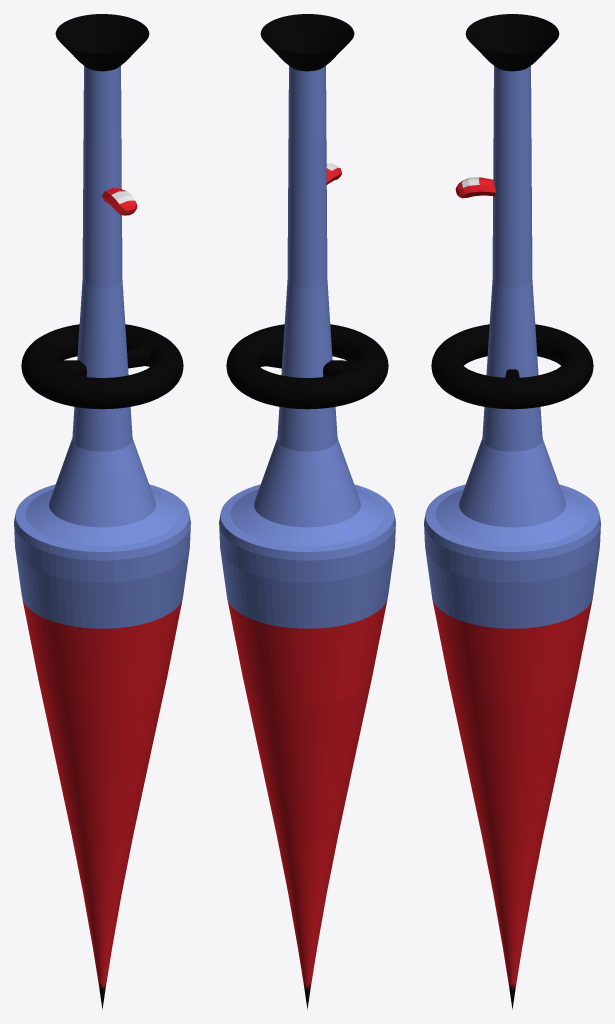
File: Lance.fbx
3 views of the same model, side by side, from view 1: azimuth 30°, elevation 25°; view 2: azimuth 150°, elevation 25°; view 3: azimuth 270°, elevation 25° (orthographic).
Visible parts, largest first — view 1: Cylinder; view 2: Cylinder; view 3: Cylinder.
Boxes of the visible parts, x1,y1,x2,y2 form: Cylinder: (14, 14, 190, 1009); Cylinder: (219, 14, 395, 1009); Cylinder: (424, 14, 600, 1009).
Size of the model in its own units: 61.45 by 374 by 61.45.
